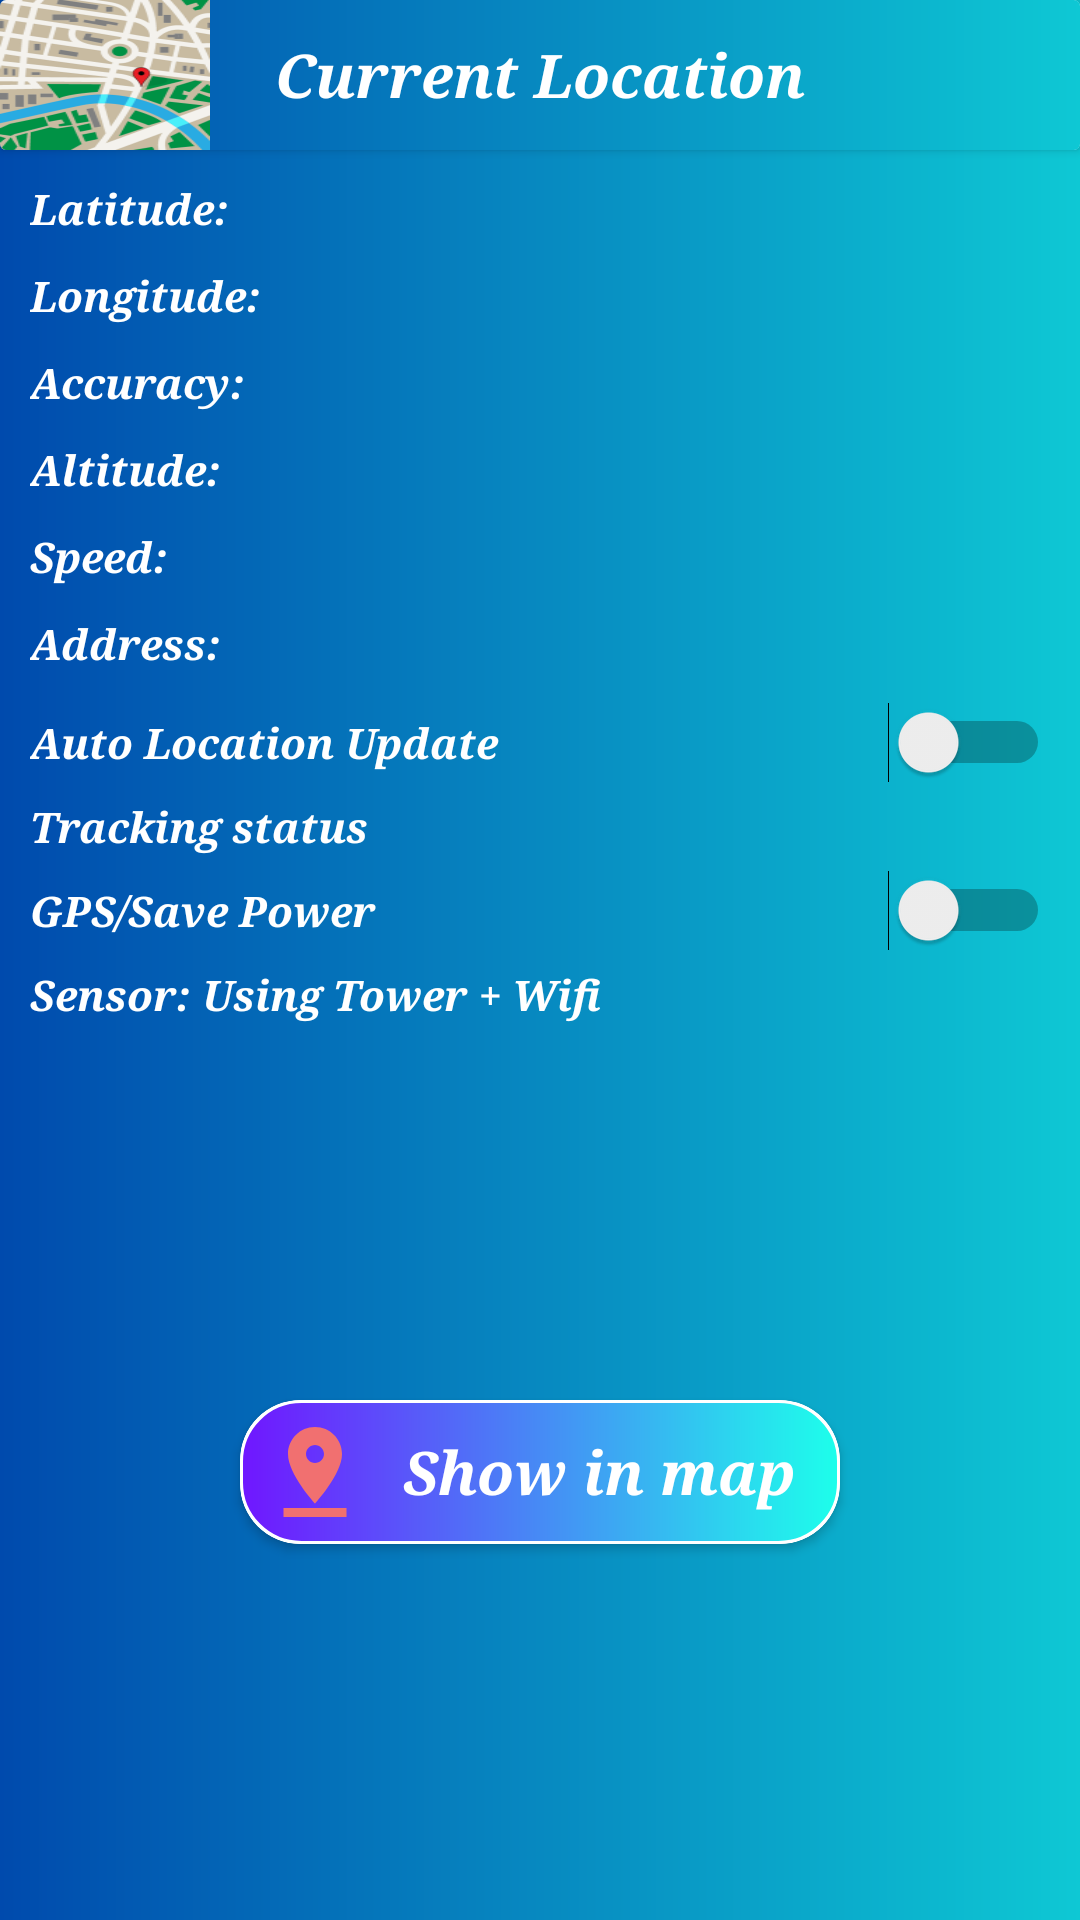

Icon click points for this 1080px x 1920px phone screenshot, format (x,y):
pin drop: (315,1472)
